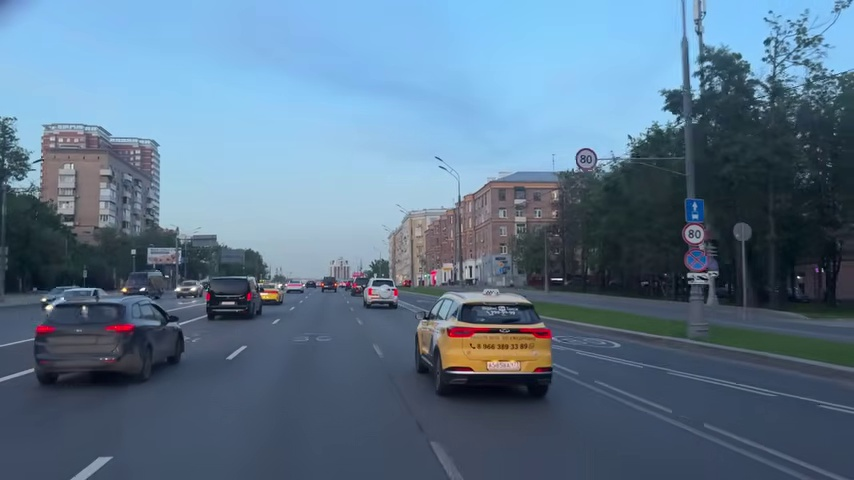apagada: (431, 155, 450, 177)
